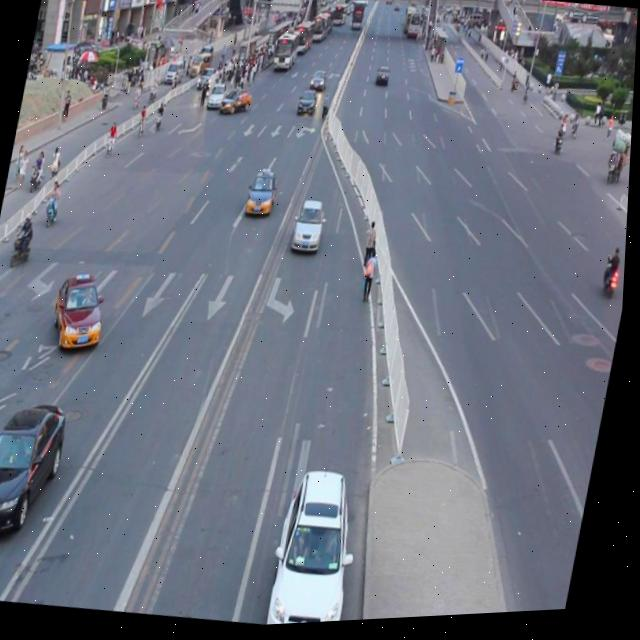car: (269, 463, 374, 628), (0, 389, 77, 542), (50, 267, 117, 358), (290, 199, 330, 261), (244, 167, 283, 224), (0, 522, 3, 600)
